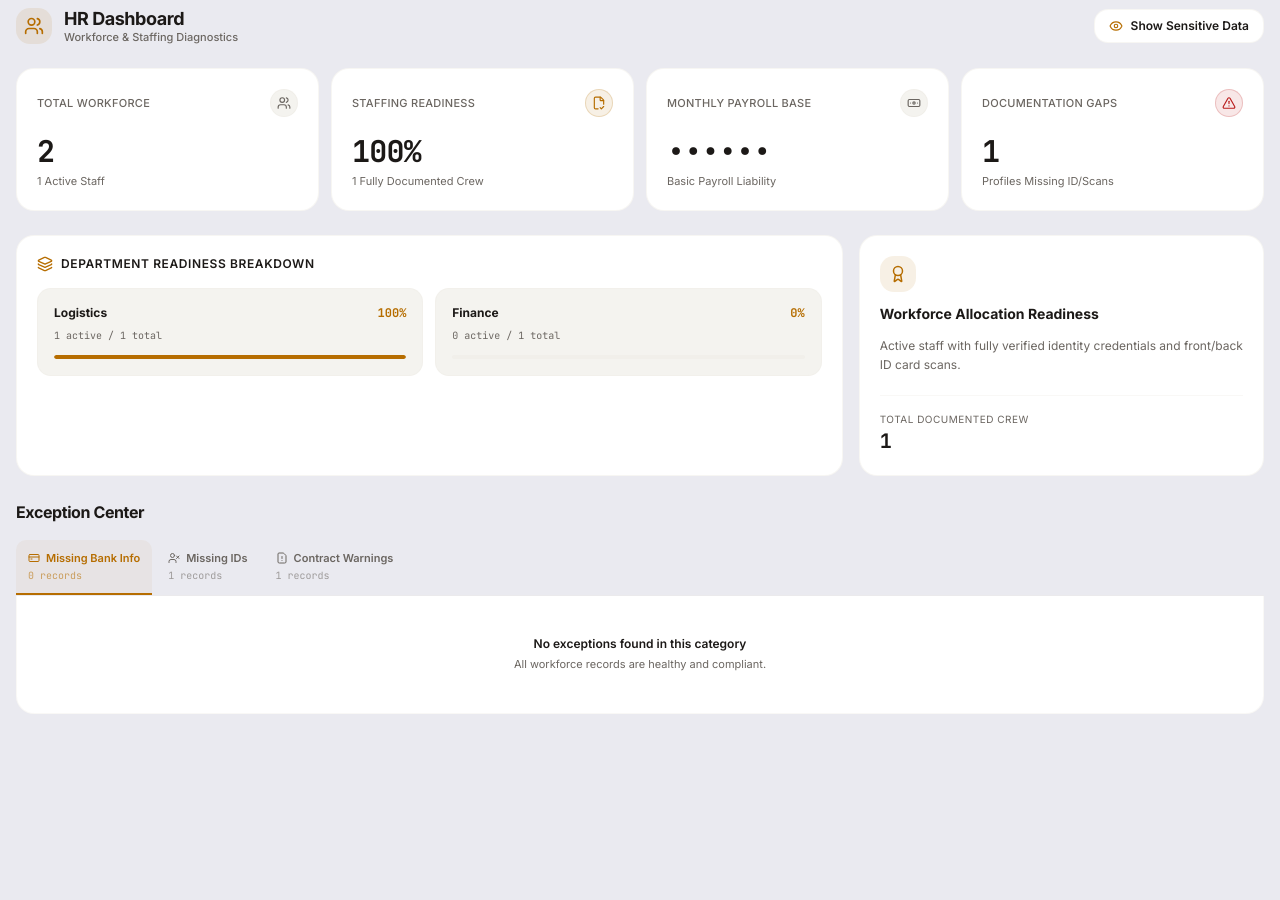
Test case: HR Dashboard Screen › shows payroll toggle and allows revealing salary when user has payroll:read
expect the heading "••••••" is shown: met, box [667,131,770,171]
Click the "Show Sensitive Data" button
Click the button "Show Sensitive Data" at (1179, 26), box [1094,9,1264,43]
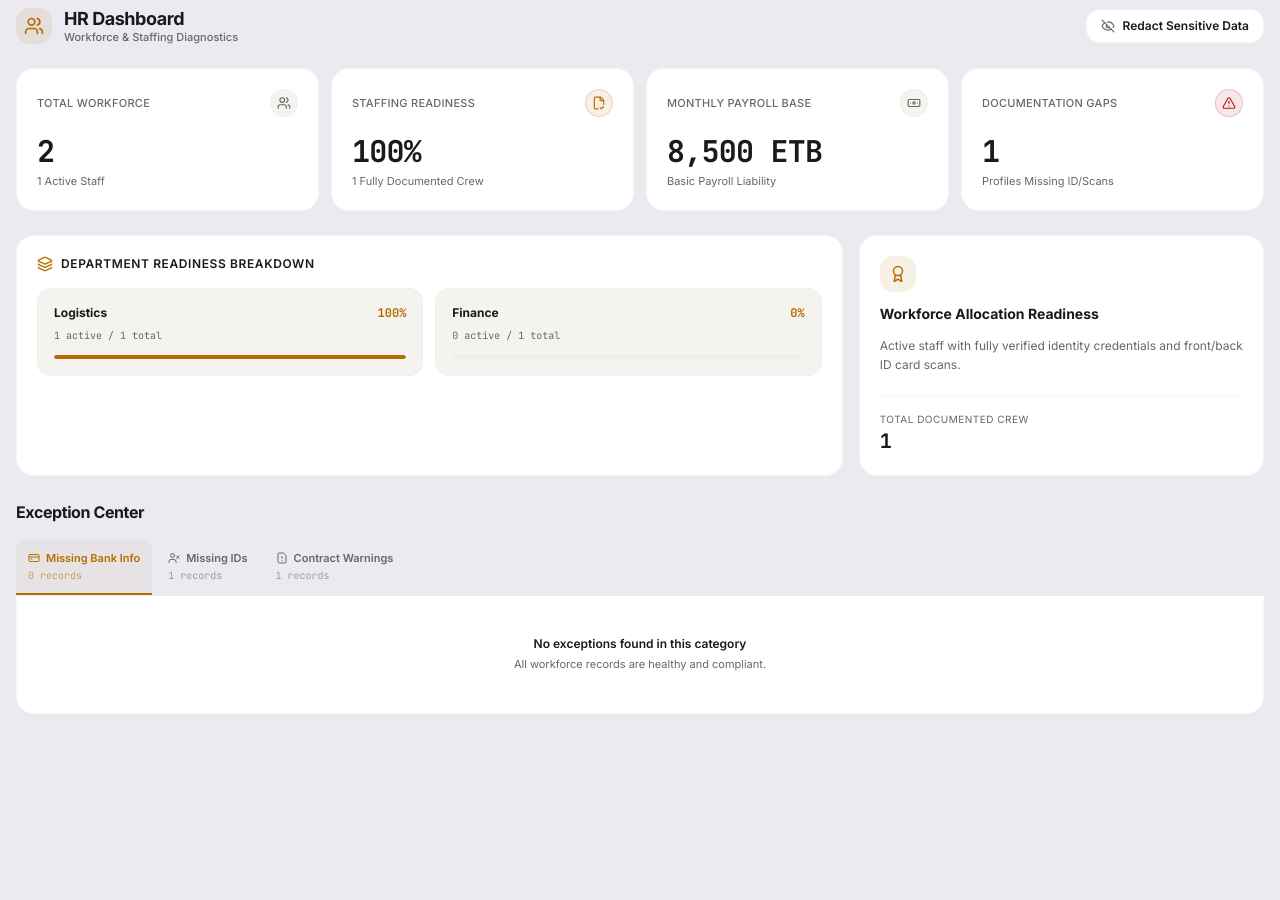
expect the heading "••••••" is gone: met
expect the heading "8,500 ETB" is shown: met, box [667,131,822,171]
